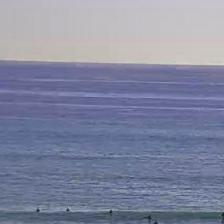surfer: (144, 215, 153, 220), (219, 212, 224, 220), (64, 207, 70, 212), (108, 209, 114, 214), (152, 220, 160, 223), (36, 208, 40, 214)
